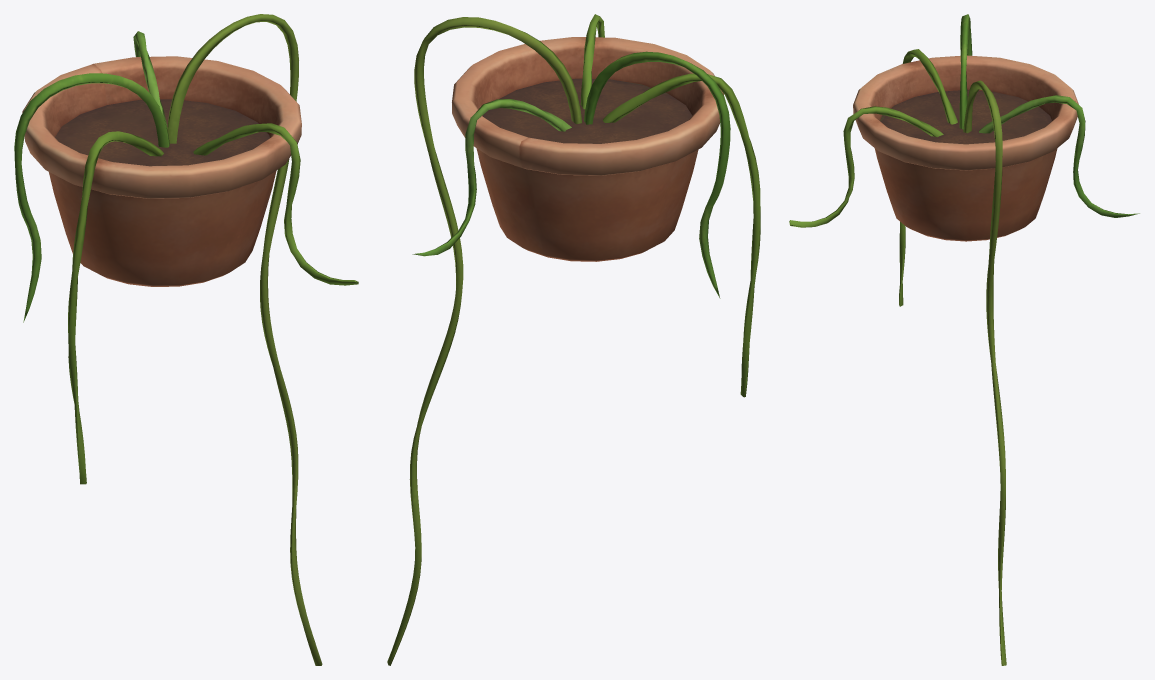
The model's file is SM_Plant_01.fbx.
3 renders of one model, left to right at view 1: azimuth 30°, elevation 25°; view 2: azimuth 150°, elevation 25°; view 3: azimuth 270°, elevation 25°, orthographic. The views are drawn at different scales.
Parts seen in each view (by area): view 1: SM_Plant_01_LOD0; view 2: SM_Plant_01_LOD0; view 3: SM_Plant_01_LOD0.
Boxes of the visible parts, x1,y1,x2,y2 form: SM_Plant_01_LOD0: (14, 14, 358, 665); SM_Plant_01_LOD0: (387, 14, 760, 665); SM_Plant_01_LOD0: (789, 14, 1139, 665).
Size of the model in its own units: 41.79 by 47.97 by 82.01.
1 material, 1 textured.
